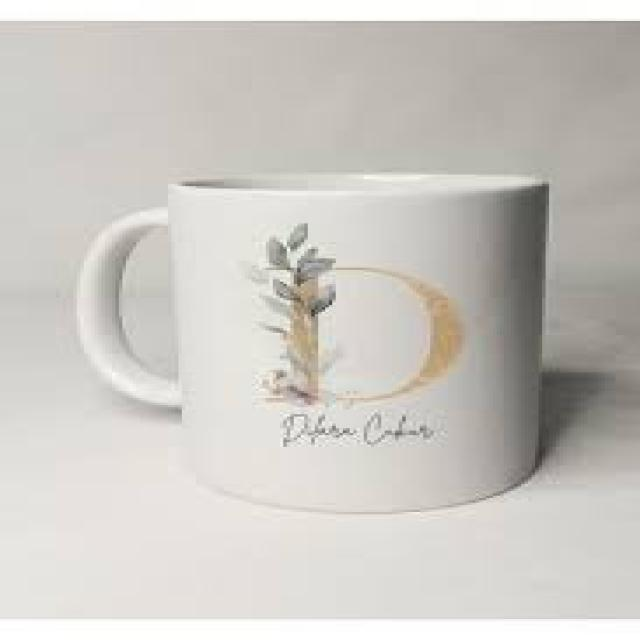taza: (77, 175, 550, 516)
